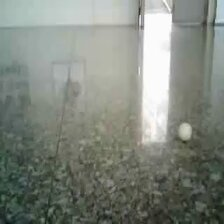w: (176, 122, 194, 142)
